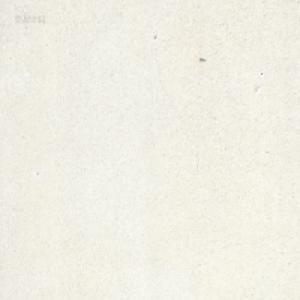Nail: (199, 56, 205, 61)
